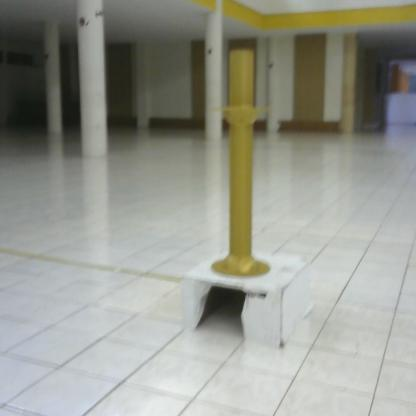pole: (200, 45, 283, 284)
